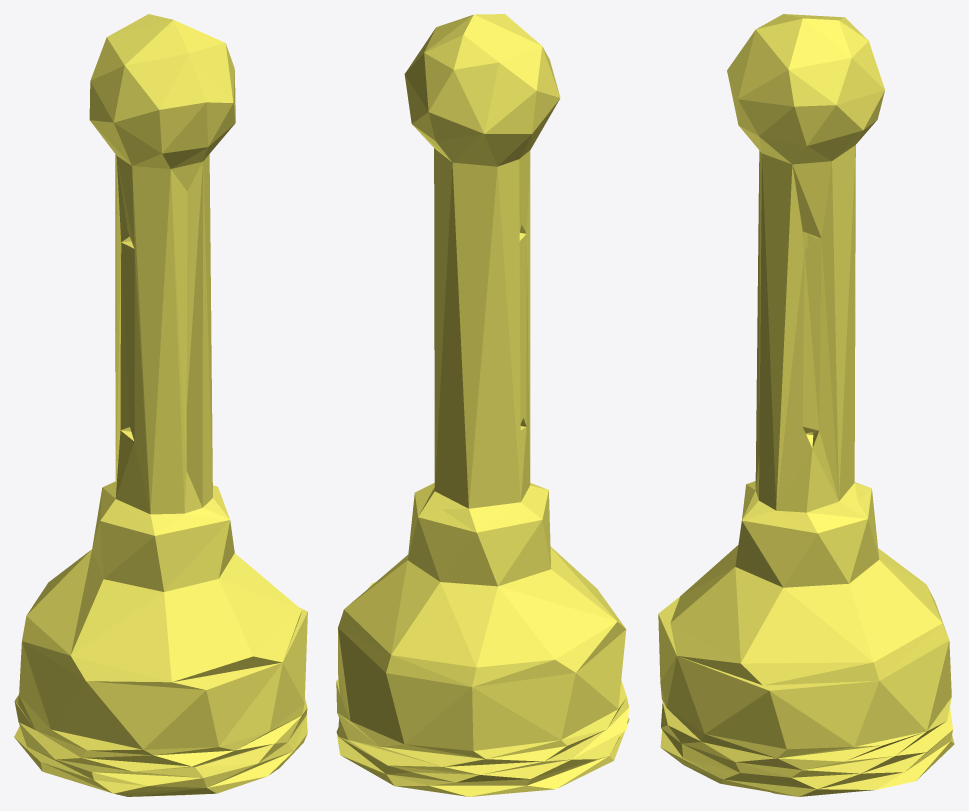
File: than_co.dae
The picture shows the model from 3 angles, left to right: view 1: azimuth 30°, elevation 25°; view 2: azimuth 150°, elevation 25°; view 3: azimuth 270°, elevation 25°; orthographic projection.
Parts seen in each view (by area): view 1: than_co; view 2: than_co; view 3: than_co.
Part boxes in pixels (box(x1,y1,x2,y2)): than_co: box(14, 14, 307, 796); than_co: box(336, 14, 629, 796); than_co: box(658, 14, 954, 796).
Bounding box in the file's own units: 0.0481 × 0.0483 × 0.1304.
